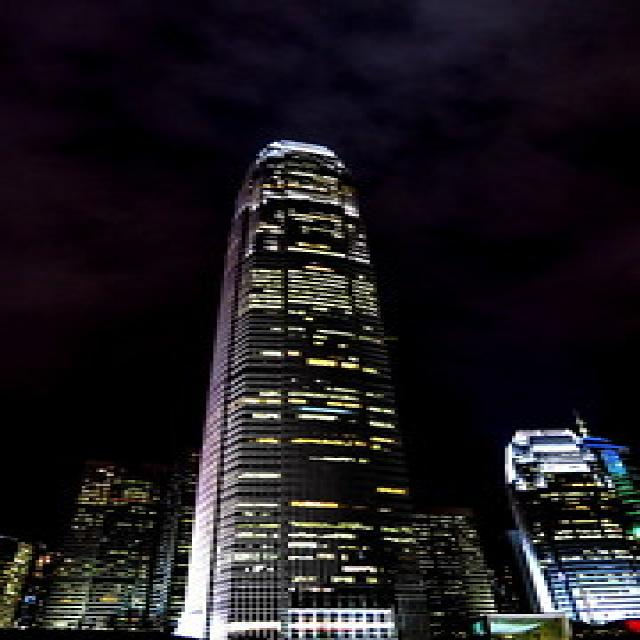Normal_building: (174, 134, 448, 640), (501, 419, 640, 637)
